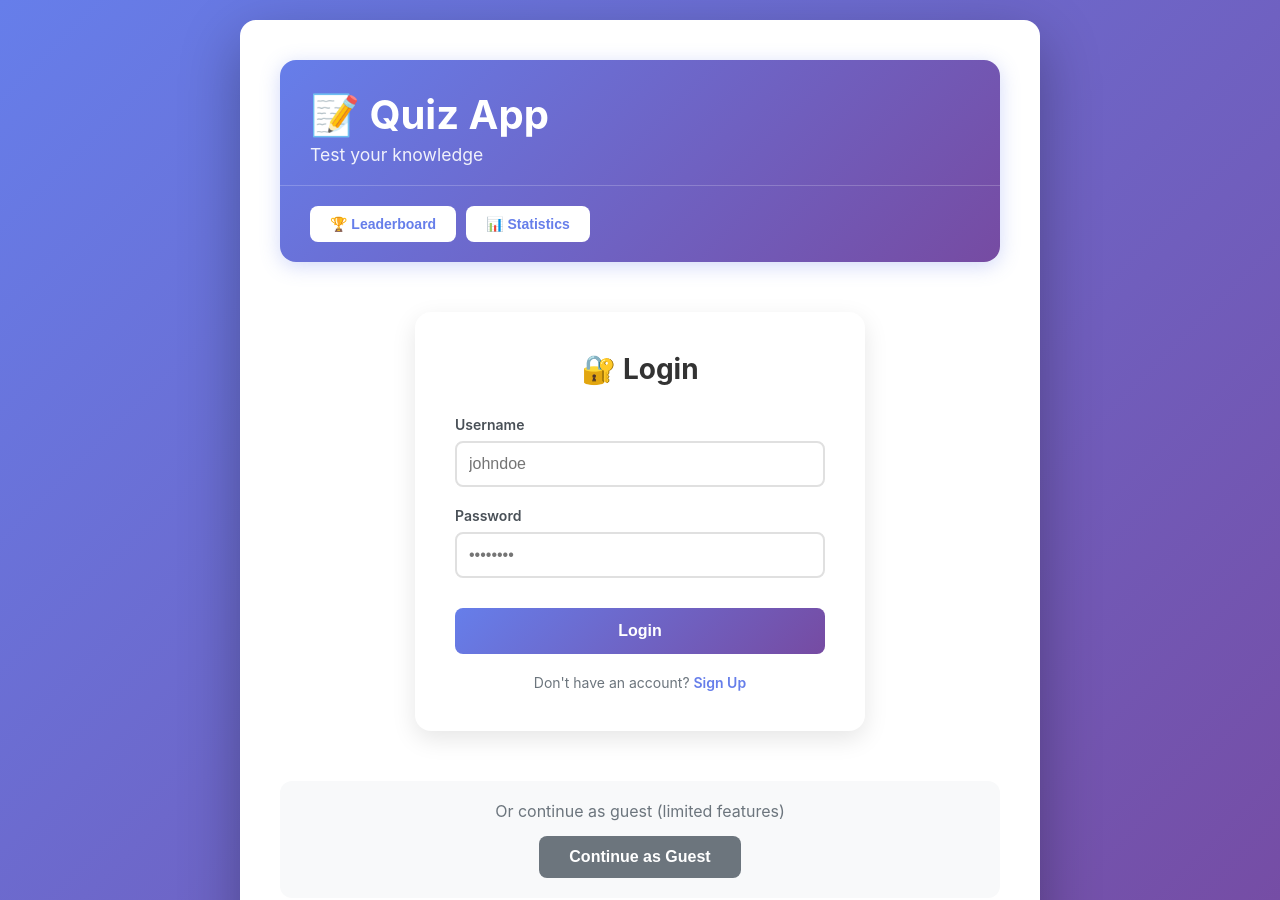
it: Quiz App › Guest Mode › should enable guest mode when continuing as guest
Click the button "Continue as Guest" at x=640, y=857, box x1=539 y1=836 x2=741 y2=878
(page scrolled)
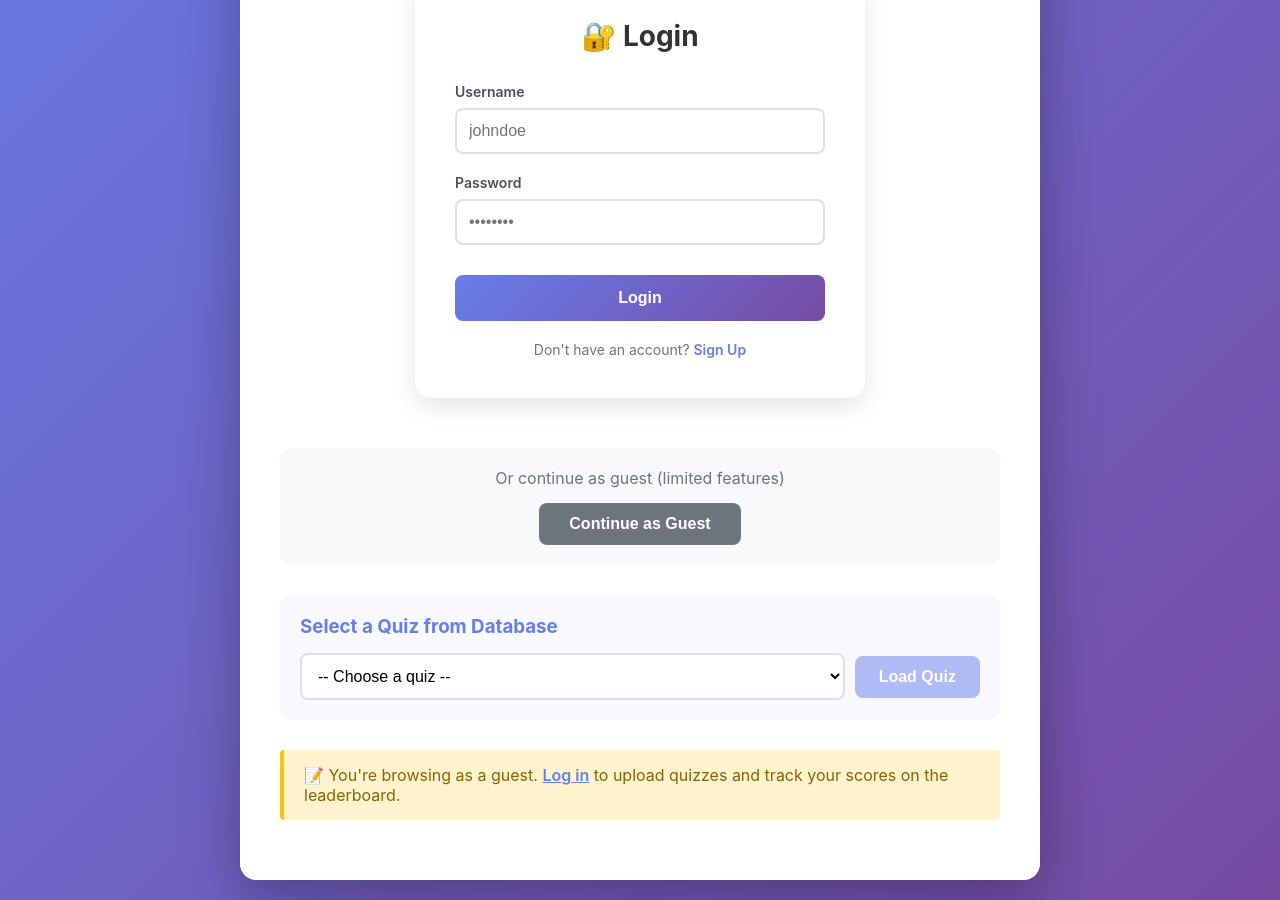
Expected: the element showing "Select a Quiz from Database Load Quiz" is shown, x1=280 y1=595 x2=1000 y2=720
